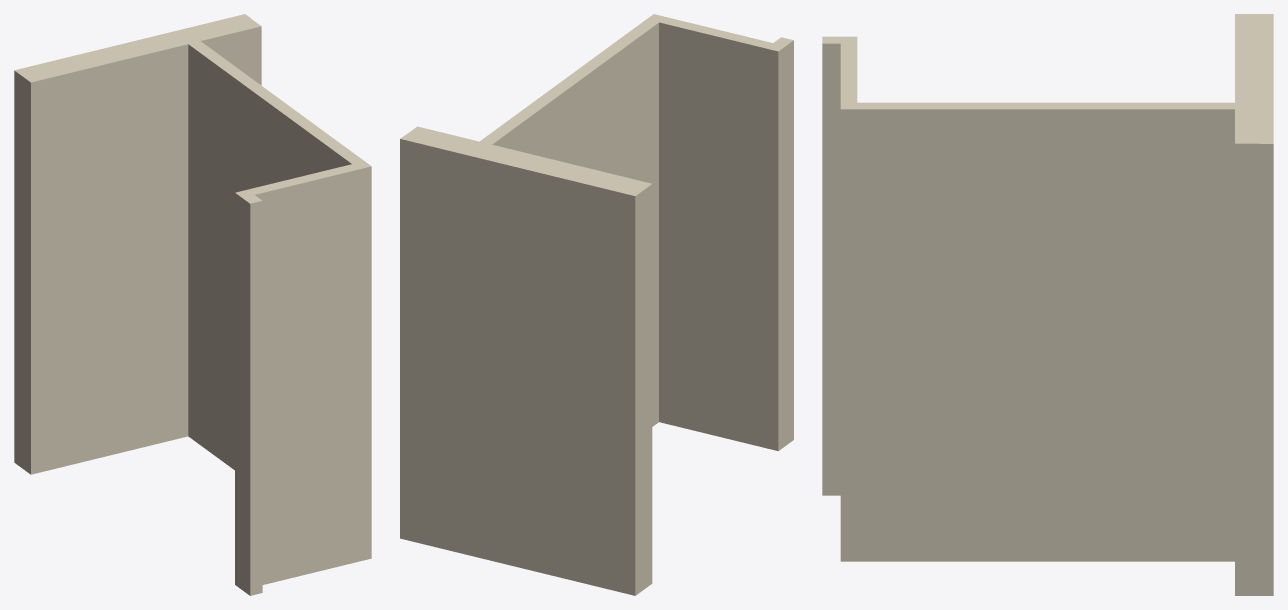
The picture shows the model from 3 angles, left to right: view 1: azimuth 30°, elevation 25°; view 2: azimuth 150°, elevation 25°; view 3: azimuth 270°, elevation 25°; orthographic projection. The views are drawn at different scales.
Parts seen in each view (by area): view 1: A-GF-WALL-028; view 2: A-GF-WALL-028; view 3: A-GF-WALL-028.
Boxes of the visible parts, x1,y1,x2,y2 form: A-GF-WALL-028: [14, 14, 371, 595]; A-GF-WALL-028: [400, 14, 793, 595]; A-GF-WALL-028: [822, 14, 1273, 595].
Bounding box in the file's own units: 1.68 × 2.72 × 2.46.
